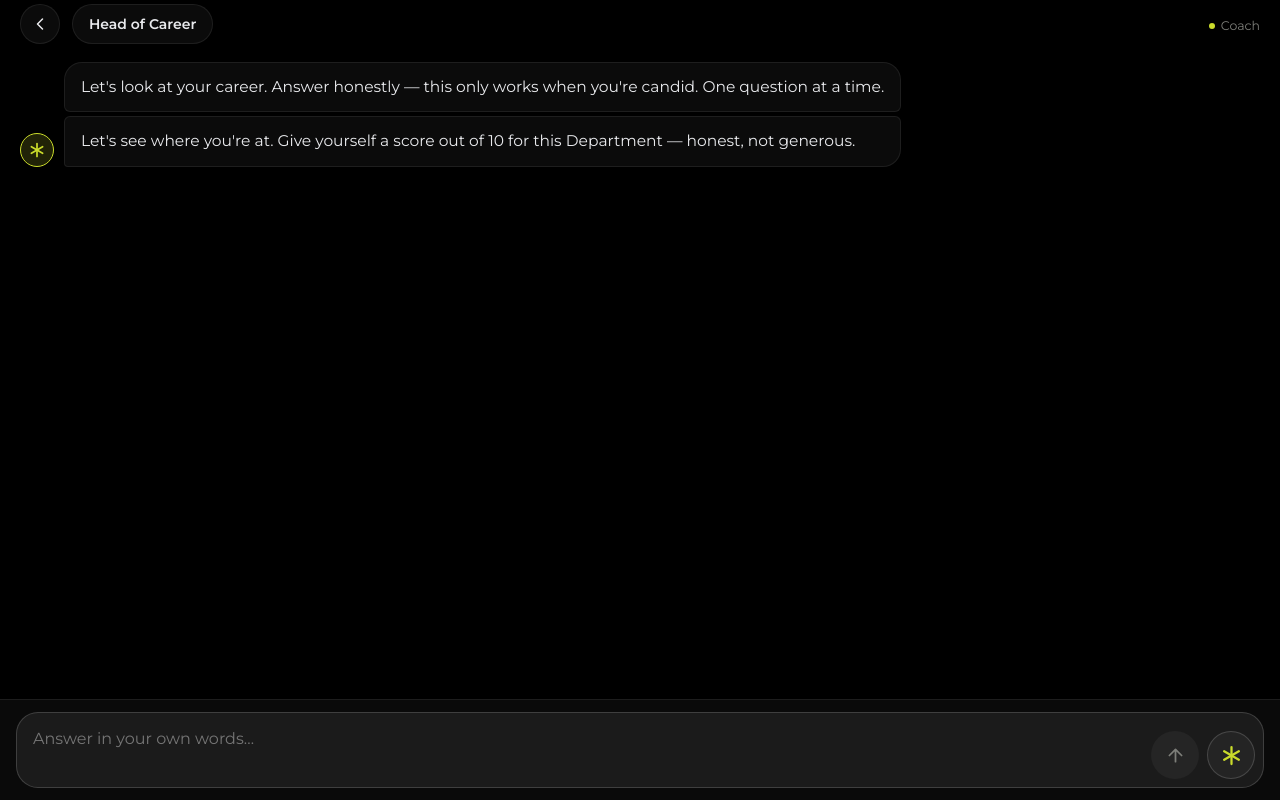
Test: ChatQuestions LLM acknowledgement › answers a side-question in persona without advancing past the fixed question
This screenshot has width=1280, height=800.
Step 1. Type "what do you mean by score?" into the text box with placeholder "Answer in your own words…" → coordinates (588, 750), box left=33, top=721, right=1143, bottom=779
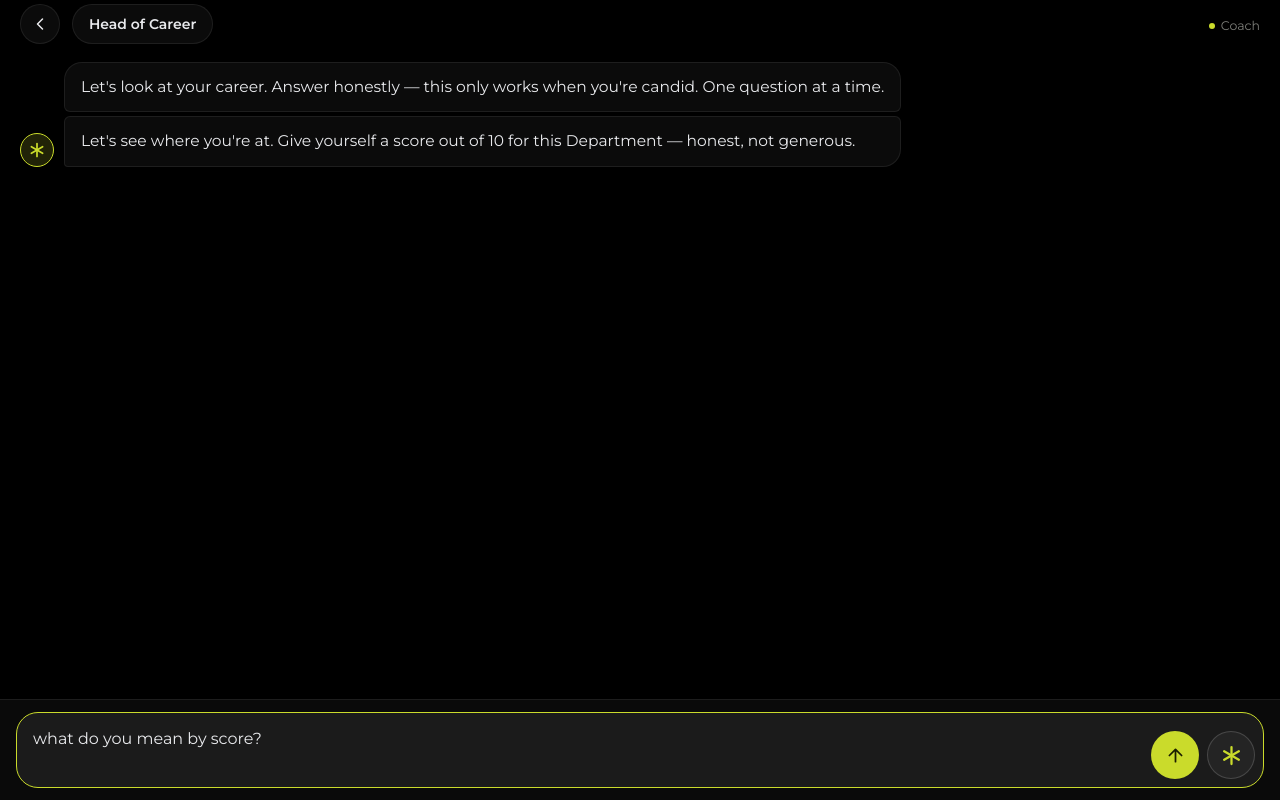
Step 2. Click the 2nd button → coordinates (1175, 755), box left=1151, top=731, right=1199, bottom=779
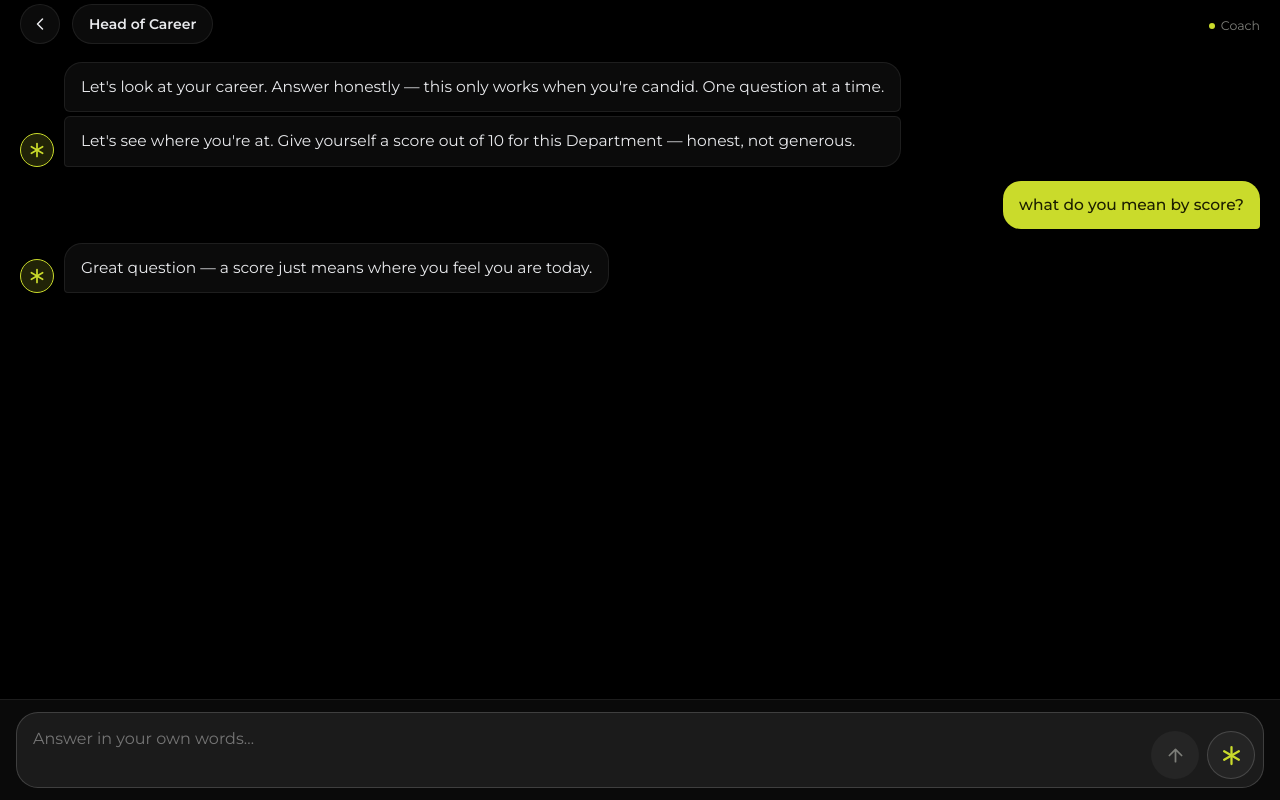
Result: the text "Great question — a score just means where you feel you are today." is shown at left=64, top=243, right=609, bottom=293
Result: the text box with placeholder "Answer in your own words…" is empty at left=33, top=721, right=1143, bottom=779
Result: the 3rd icon is shown at left=29, top=268, right=45, bottom=284
